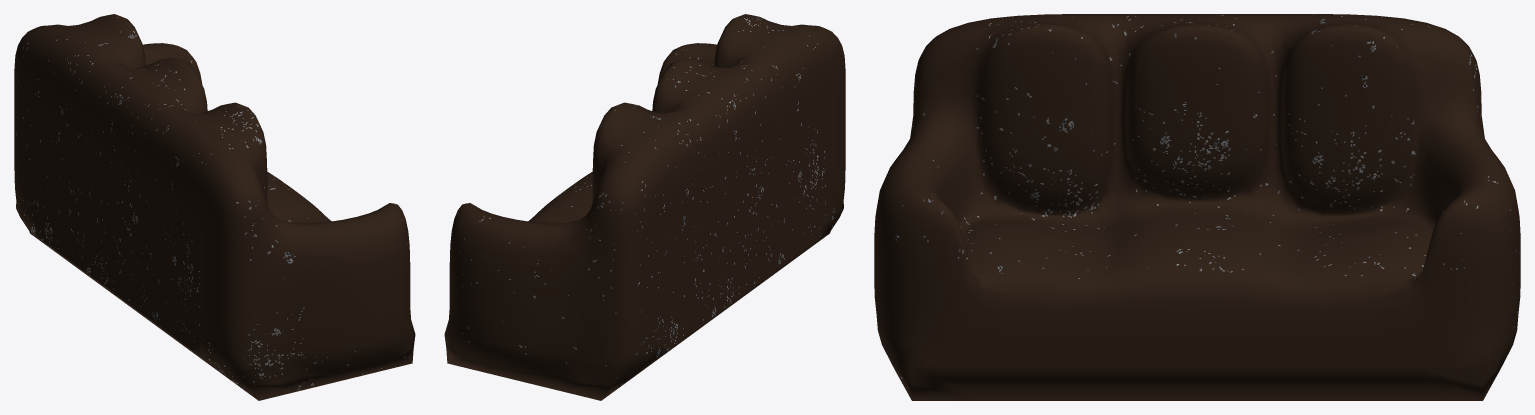
Rendered from SofaRE1.fbx.
The picture shows the model from 3 angles, left to right: view 1: azimuth 30°, elevation 25°; view 2: azimuth 150°, elevation 25°; view 3: azimuth 270°, elevation 25°; orthographic projection. The views are drawn at different scales.
Parts seen in each view (by area): view 1: pCube1; view 2: pCube1; view 3: pCube1.
Boxes of the visible parts, x1,y1,x2,y2 form: pCube1: (14, 14, 415, 400); pCube1: (444, 14, 845, 400); pCube1: (874, 14, 1520, 400).
Bounding box in the file's own units: 0.4791 × 0.6118 × 1.17.
Materials: 1 (1 with a texture image).
